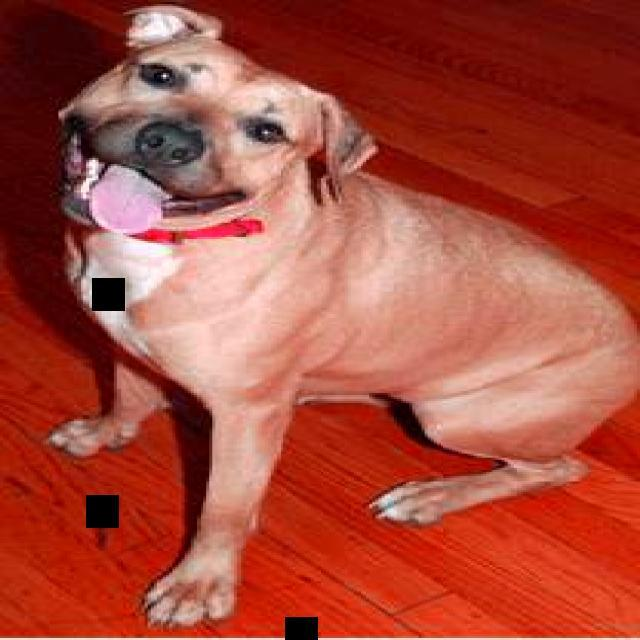adult_dog: (47, 5, 640, 629)
